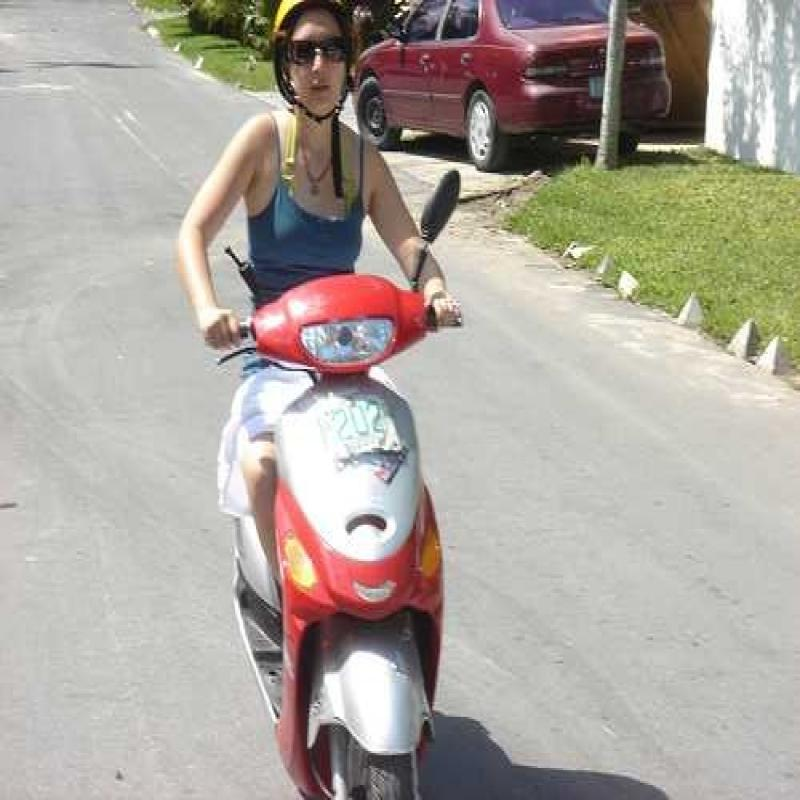bike: (227, 245, 500, 800)
